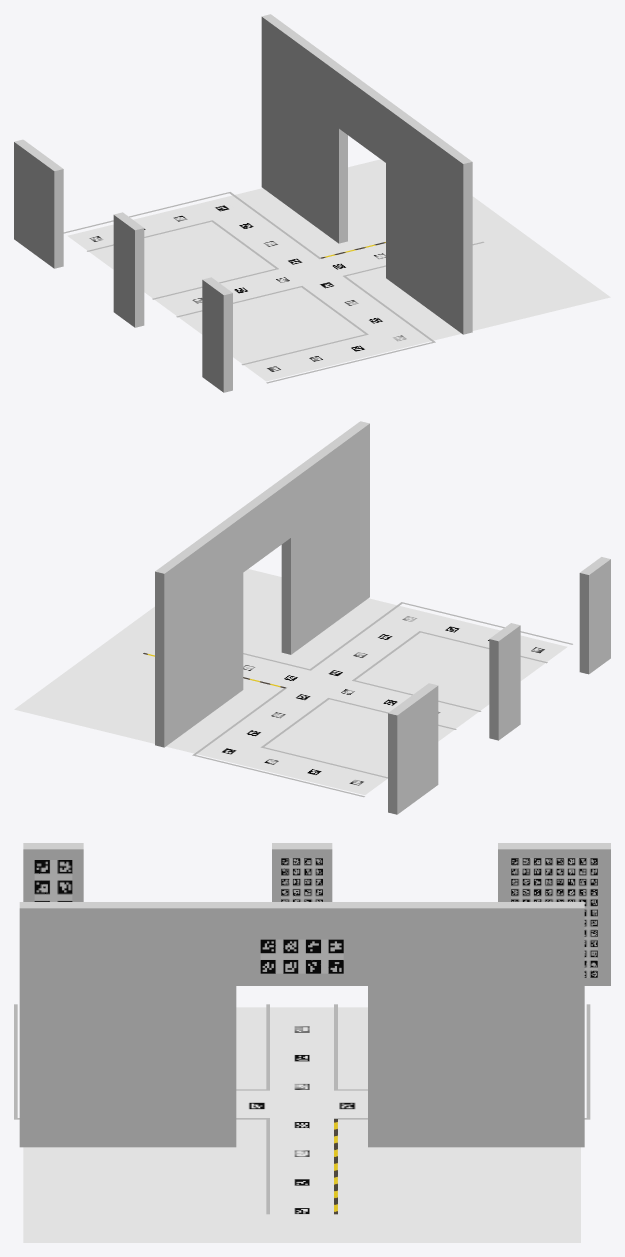
3 renders of one model, top to bottom at view 1: azimuth 30°, elevation 25°; view 2: azimuth 150°, elevation 25°; view 3: azimuth 270°, elevation 25°, orthographic. The views are drawn at different scales.
Parts seen in each view (by area): view 1: grid_board_new_200_big_onepattern_missing_markers_wear, Cube.001, Cube.004, Cube.002, Cube.005; view 2: grid_board_new_200_big_onepattern_missing_markers_wear, Cube.001, Cube.004, Cube.002, Cube.005; view 3: Cube.001, grid_board_new_200_big_onepattern_missing_markers_wear, grid_board_landing_3_1, Cube.004, grid_board_new_100, Cube.005, grid_board_landing_2_1, Cube.002, grid_board_new_landing1.002, warning.002.
Boxes of the visible parts, bbox=[...] form: grid_board_new_200_big_onepattern_missing_markers_wear: bbox=[67, 159, 610, 381]; Cube.001: bbox=[261, 14, 472, 334]; Cube.004: bbox=[14, 139, 63, 268]; Cube.002: bbox=[113, 212, 144, 327]; Cube.005: bbox=[202, 277, 232, 392]; grid_board_new_200_big_onepattern_missing_markers_wear: bbox=[14, 569, 567, 794]; Cube.001: bbox=[155, 421, 369, 747]; Cube.004: bbox=[388, 683, 438, 814]; Cube.002: bbox=[489, 623, 520, 740]; Cube.005: bbox=[579, 557, 610, 674]; Cube.001: bbox=[19, 902, 584, 1147]; grid_board_new_200_big_onepattern_missing_markers_wear: bbox=[23, 1007, 580, 1242]; grid_board_landing_3_1: bbox=[511, 858, 597, 977]; Cube.004: bbox=[498, 843, 610, 985]; grid_board_new_100: bbox=[260, 939, 343, 973]; Cube.005: bbox=[23, 843, 83, 901]; grid_board_landing_2_1: bbox=[281, 858, 322, 901]; Cube.002: bbox=[272, 843, 332, 901]; grid_board_new_landing1.002: bbox=[34, 860, 72, 901]; warning.002: bbox=[586, 1004, 590, 1119].
Bounding box in the file's own units: 8.31 × 7.93 × 3.52.
